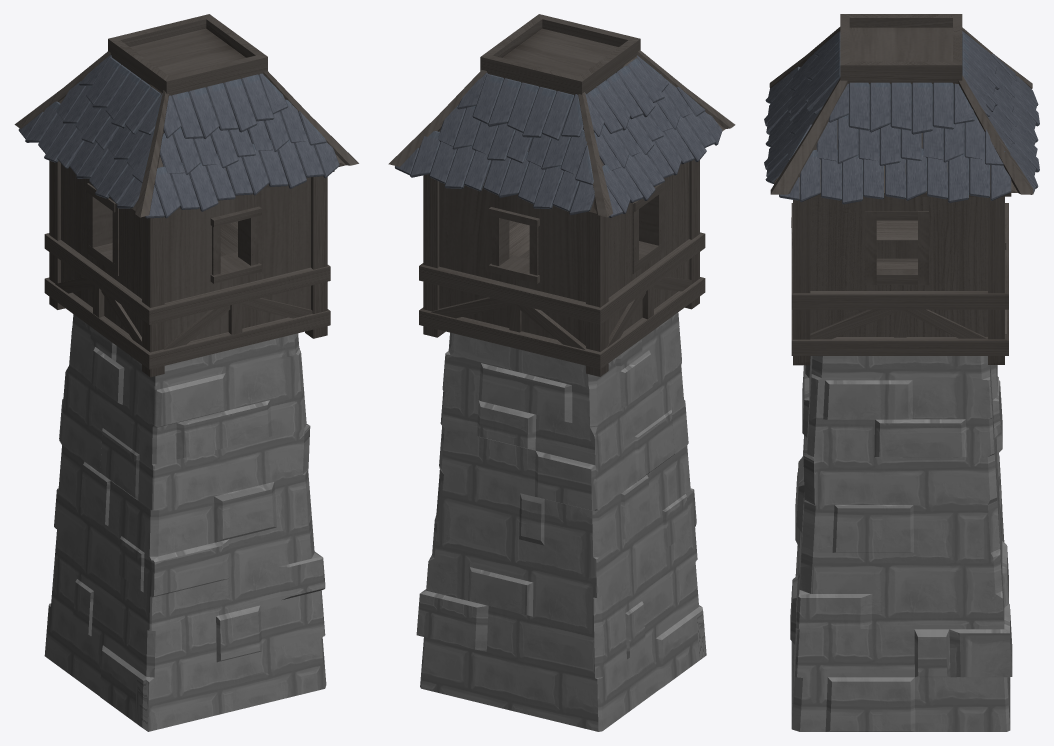
The model's file is att_tower2_uv.fbx.
3 views of the same model, side by side, from view 1: azimuth 30°, elevation 25°; view 2: azimuth 150°, elevation 25°; view 3: azimuth 270°, elevation 25° (orthographic). The views are drawn at different scales.
Visible parts, largest first — view 1: polySurface137; view 2: polySurface137; view 3: polySurface137.
Boxes of the visible parts, x1,y1,x2,y2 form: polySurface137: (14,14,358,731); polySurface137: (388,14,735,731); polySurface137: (764,14,1039,731).
Bounding box in the file's own units: 21.56 × 56.2 × 21.72.
4 materials, 4 textured.
